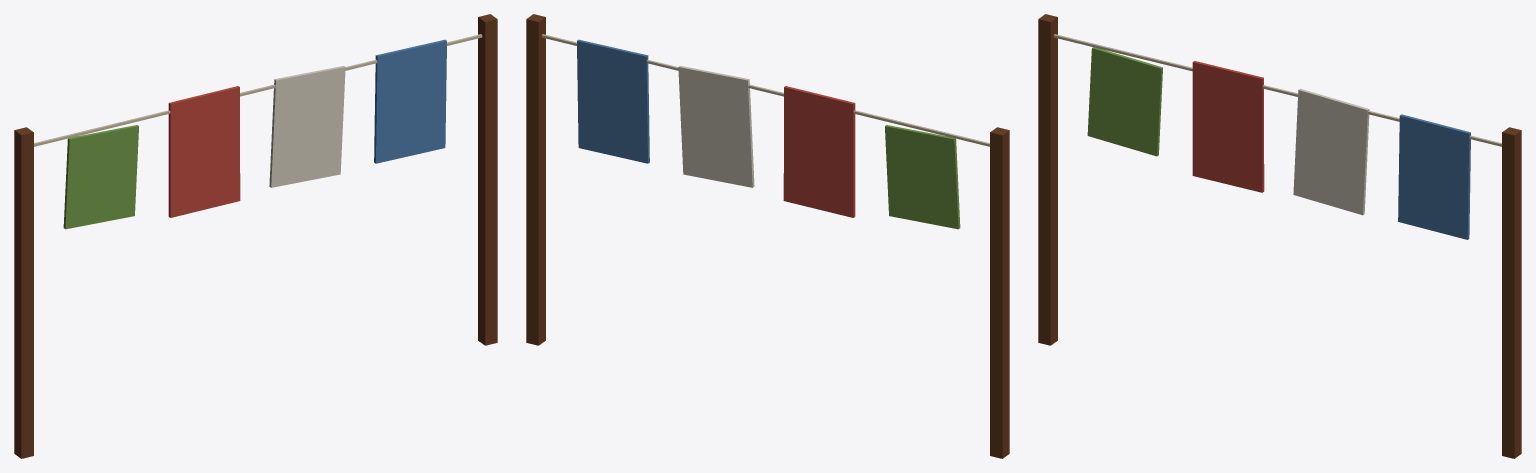
The model's file is washing-line.glb.
3 renders of one model, left to right at view 1: azimuth 30°, elevation 25°; view 2: azimuth 150°, elevation 25°; view 3: azimuth 330°, elevation 25°, orthographic.
Parts seen in each view (by area): view 1: foliage/washing-line; view 2: foliage/washing-line; view 3: foliage/washing-line.
Part boxes in pixels (x1,y1,x2,y2): foliage/washing-line: (14,14,497,458); foliage/washing-line: (526,14,1009,458); foliage/washing-line: (1038,14,1521,458).
Bounding box in the file's own units: 3.08 × 2 × 0.08.
